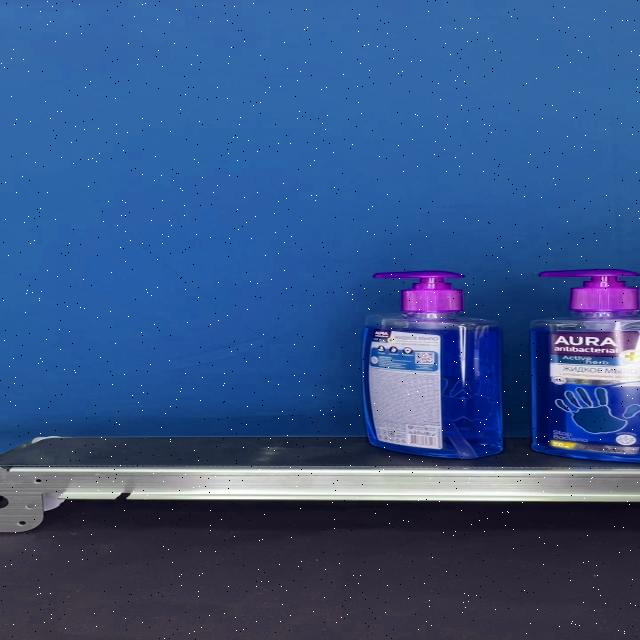Bottle: (361, 271, 503, 459), (529, 269, 640, 463)
Cap: (539, 268, 640, 312), (373, 270, 465, 312)
